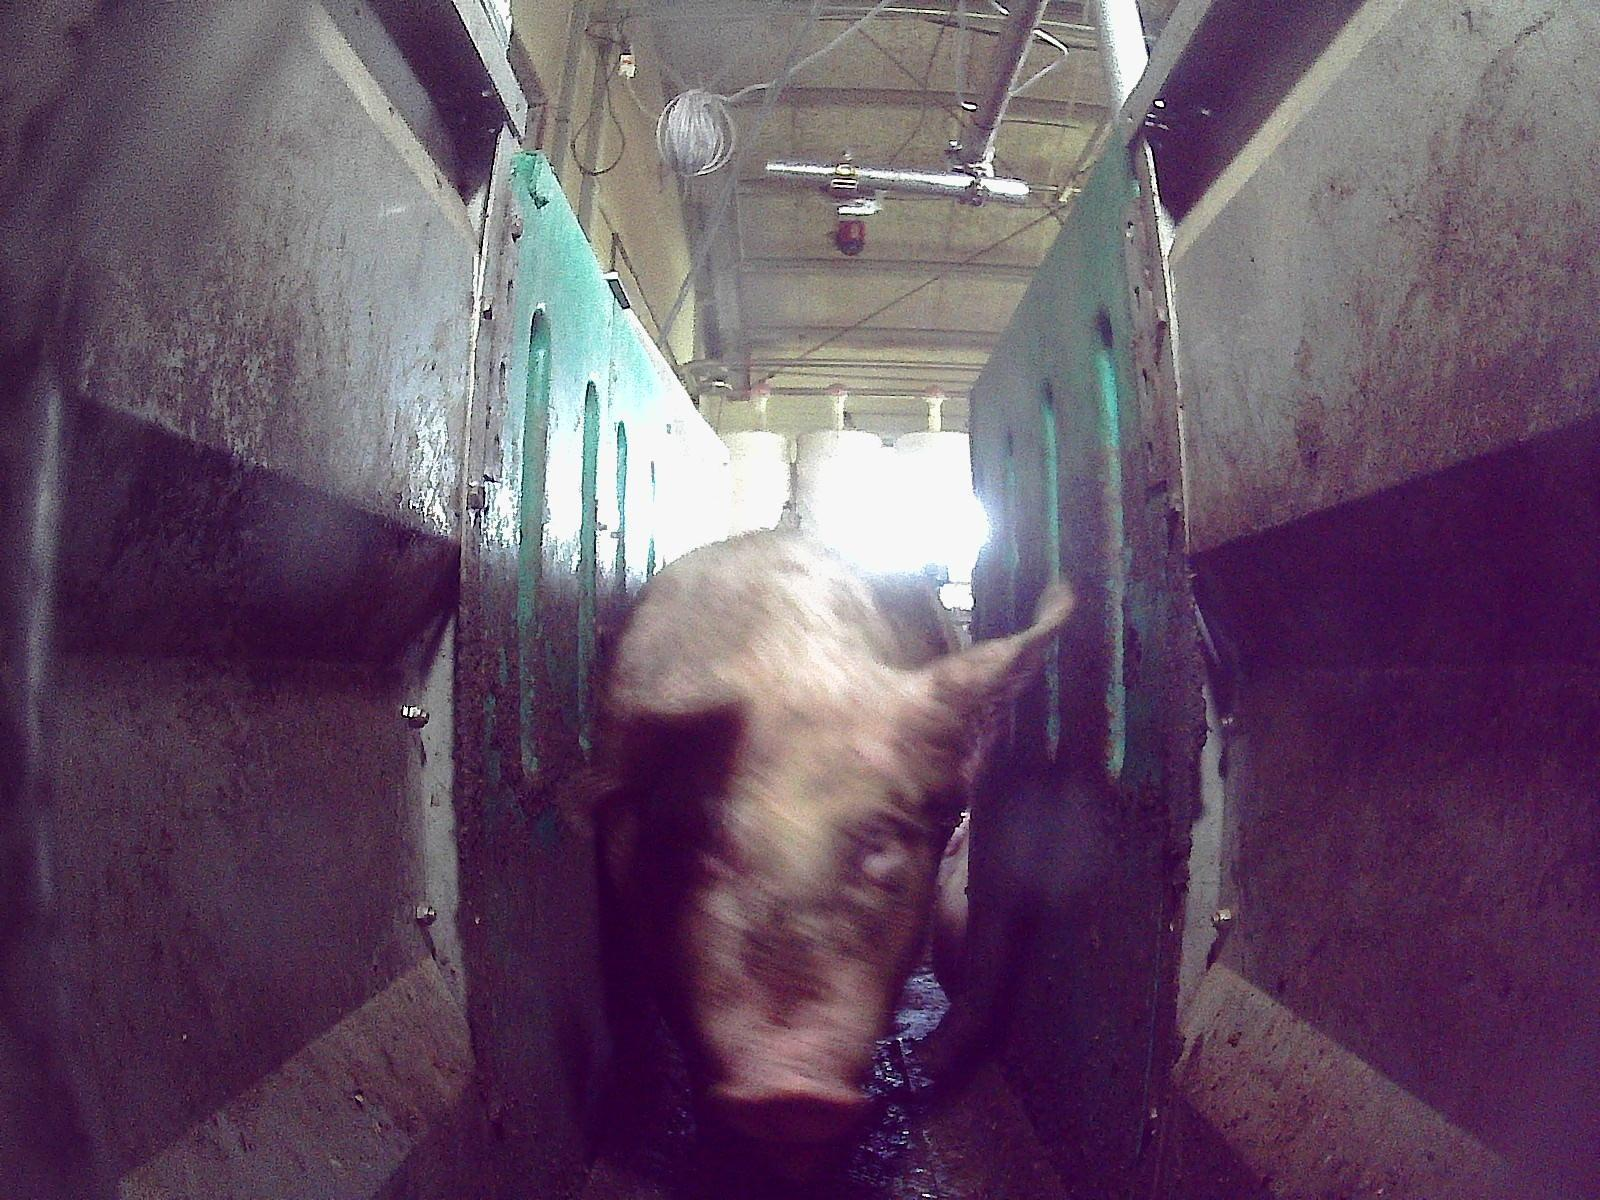Face: (631, 688, 937, 1144)
